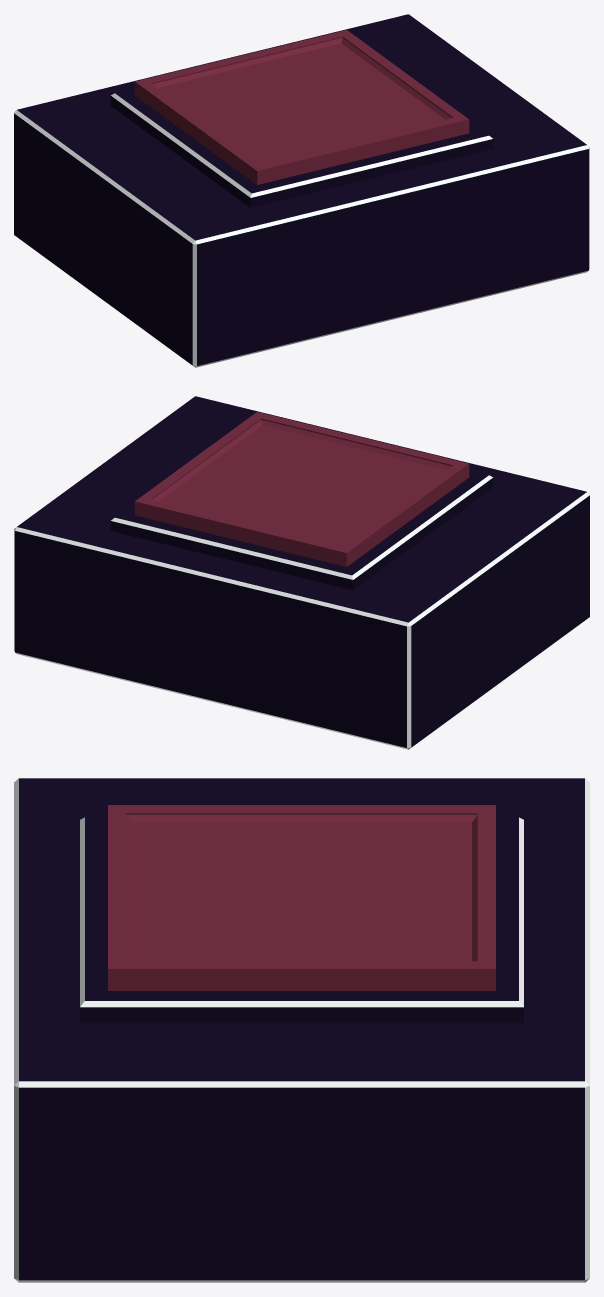
File: Passenger Button.fbx
3 views of the same model, one above another, from view 1: azimuth 30°, elevation 25°; view 2: azimuth 150°, elevation 25°; view 3: azimuth 270°, elevation 25° (orthographic). The views are drawn at different scales.
Parts seen in each view (by area): view 1: Cube.001; view 2: Cube.001; view 3: Cube.001.
Boxes of the visible parts, x1,y1,x2,y2 form: Cube.001: [14, 14, 589, 367]; Cube.001: [14, 396, 589, 749]; Cube.001: [14, 778, 589, 1282].
Size of the model in its own units: 328 by 121 by 260.
